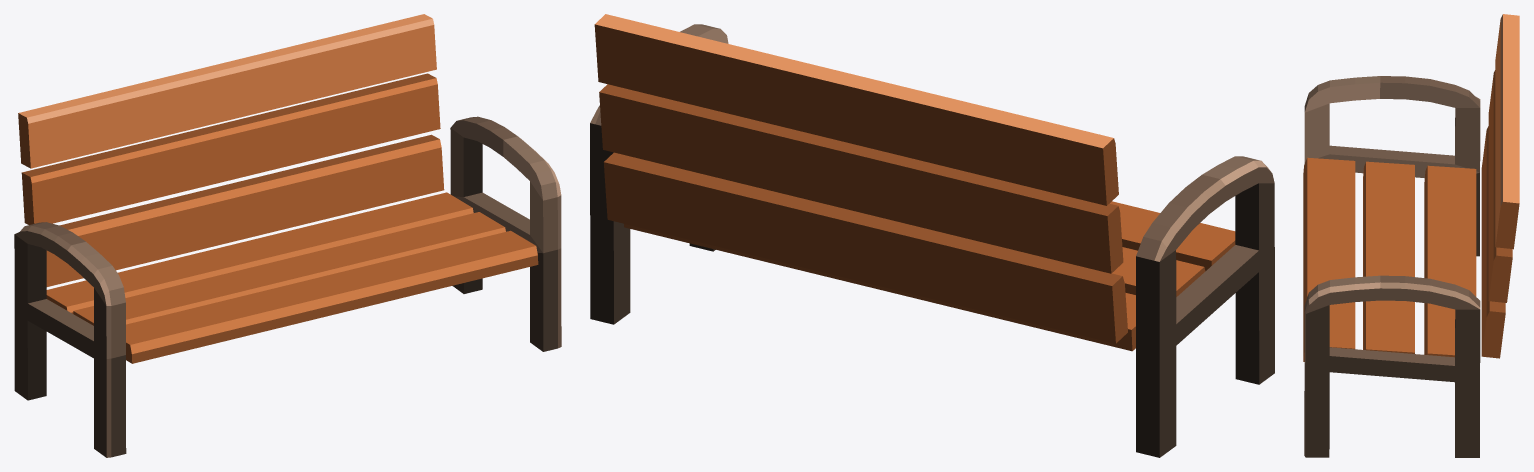
File: BAKE_EXT_L2_Bench_01.fbx
The picture shows the model from 3 angles, left to right: view 1: azimuth 30°, elevation 25°; view 2: azimuth 150°, elevation 25°; view 3: azimuth 270°, elevation 25°; orthographic projection. The views are drawn at different scales.
Visible parts, largest first — view 1: BAKE_EXT_L2_Bench_01; view 2: BAKE_EXT_L2_Bench_01; view 3: BAKE_EXT_L2_Bench_01.
Boxes of the visible parts, x1=… form: BAKE_EXT_L2_Bench_01: x1=14, y1=14, x2=561, y2=457; BAKE_EXT_L2_Bench_01: x1=590, y1=14, x2=1274, y2=457; BAKE_EXT_L2_Bench_01: x1=1303, y1=14, x2=1519, y2=457.
Size of the model in its own units: 1.82 by 0.9856 by 0.7887.
